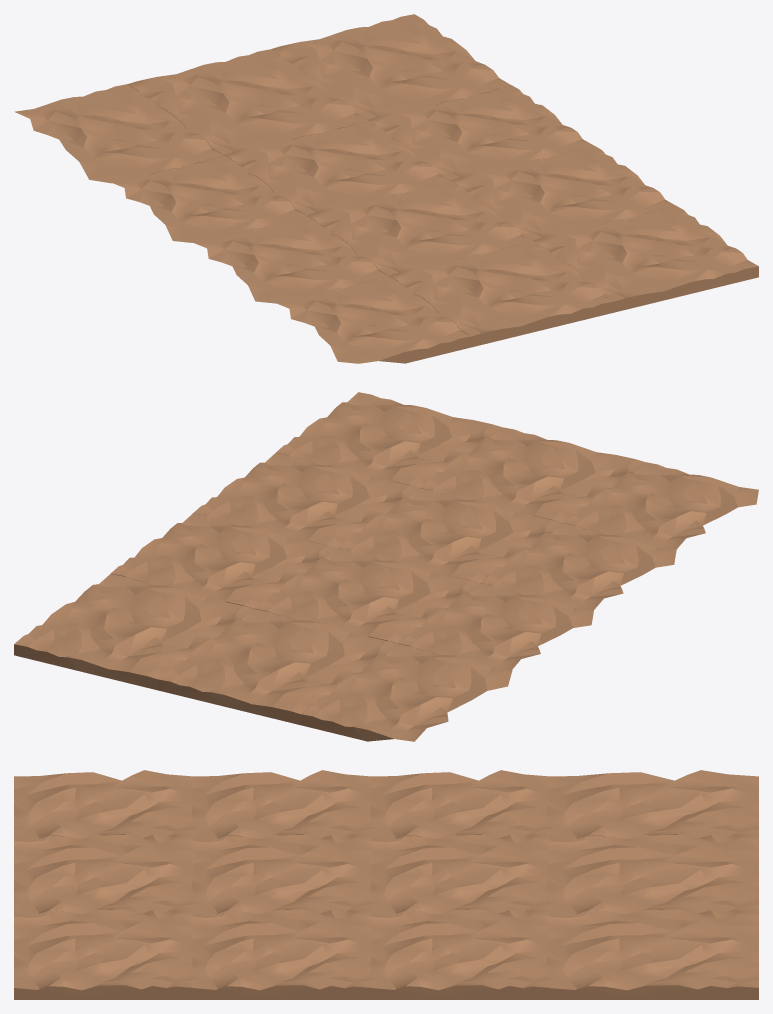
File: PastSoil1.fbx
The picture shows the model from 3 angles, top to bottom: view 1: azimuth 30°, elevation 25°; view 2: azimuth 150°, elevation 25°; view 3: azimuth 270°, elevation 25°; orthographic projection. The views are drawn at different scales.
Visible parts, largest first — view 1: pasted__polySurface5785; view 2: pasted__polySurface5785; view 3: pasted__polySurface5785.
Part boxes in pixels (<box>): pasted__polySurface5785: <box>14,14,758,363</box>; pasted__polySurface5785: <box>14,392,758,741</box>; pasted__polySurface5785: <box>14,770,758,999</box>.
Size of the model in its own units: 999 by 35.05 by 1454.
